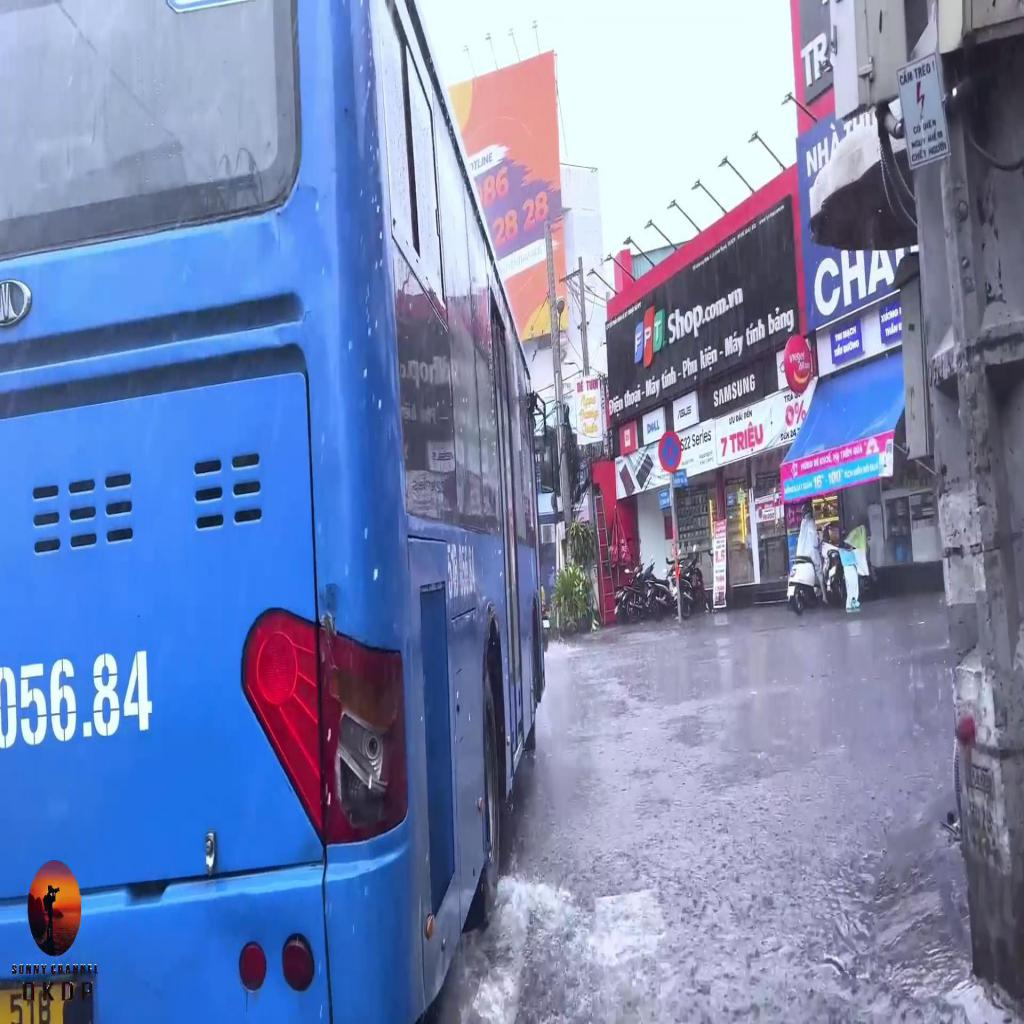cam_dung_xe_va_do_xe: (658, 428, 682, 471)
